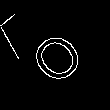O_NW: (13, 15, 82, 82)
